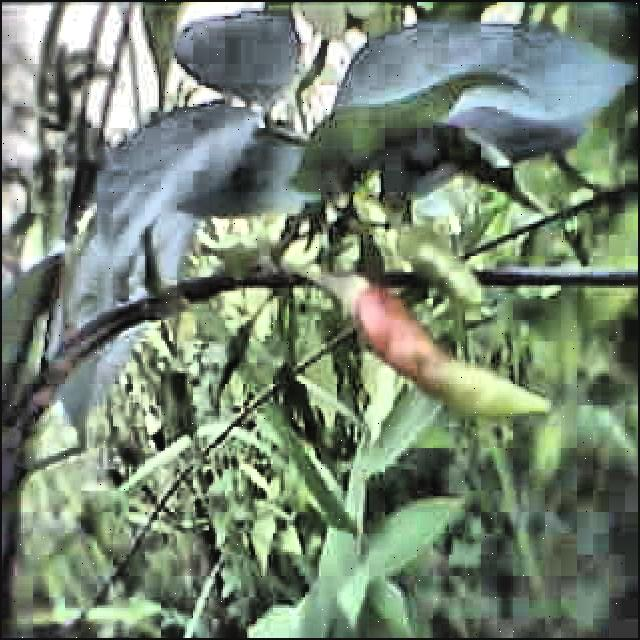Cabai: (348, 286, 564, 457)
